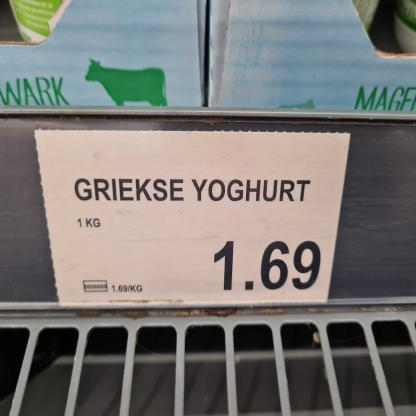prtg: (34, 130, 352, 307)
